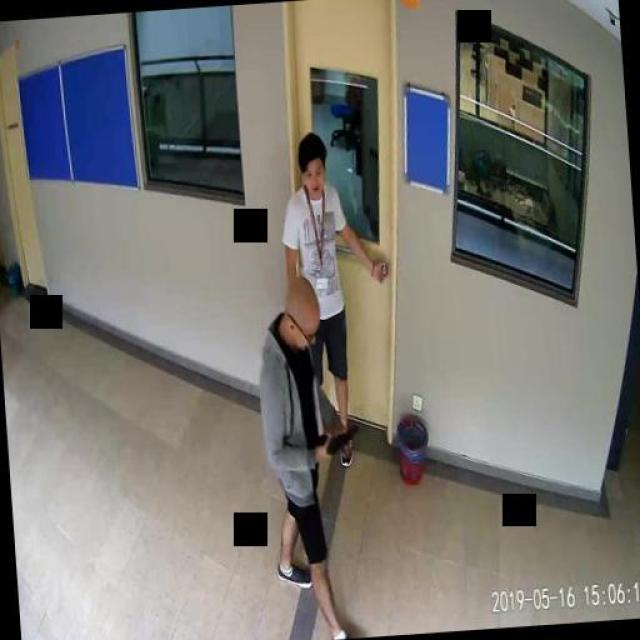gun: (316, 420, 360, 455)
